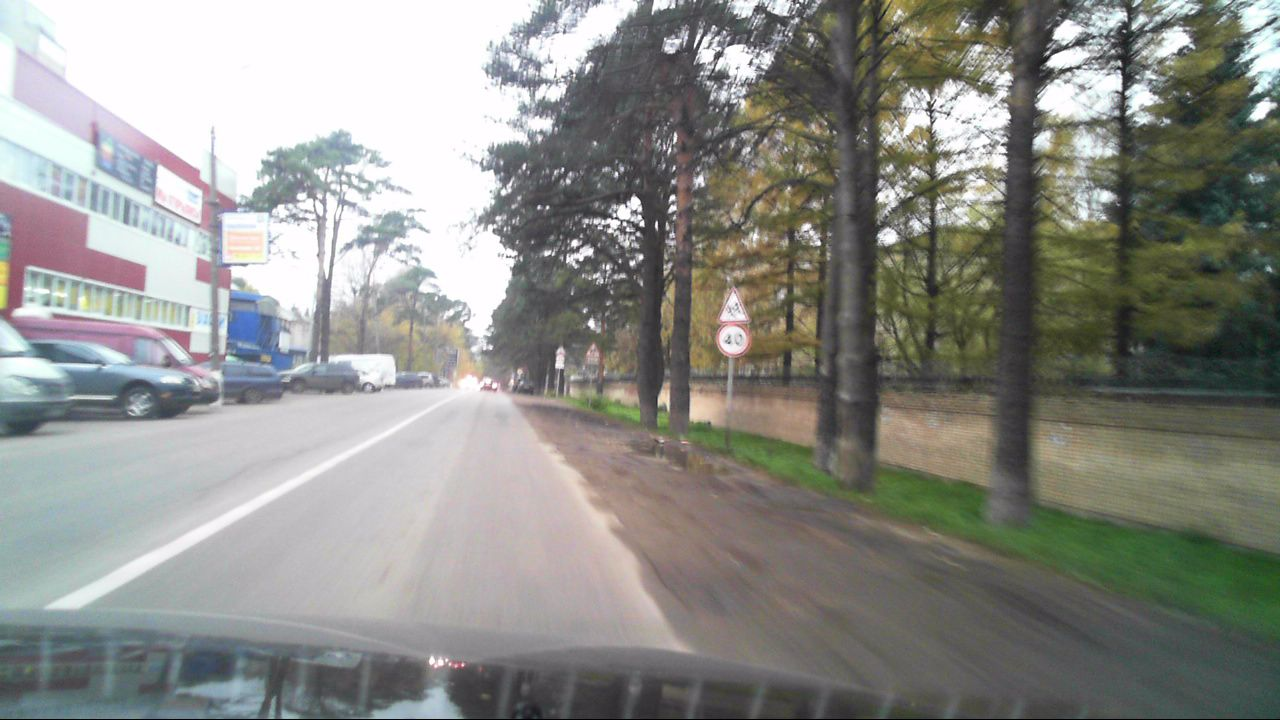speed_warning_40: (715, 323, 751, 358)
